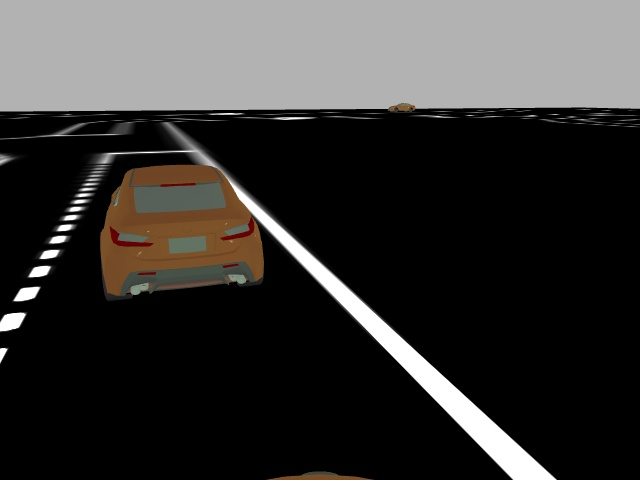obstacle_car: (98, 163, 267, 308)
